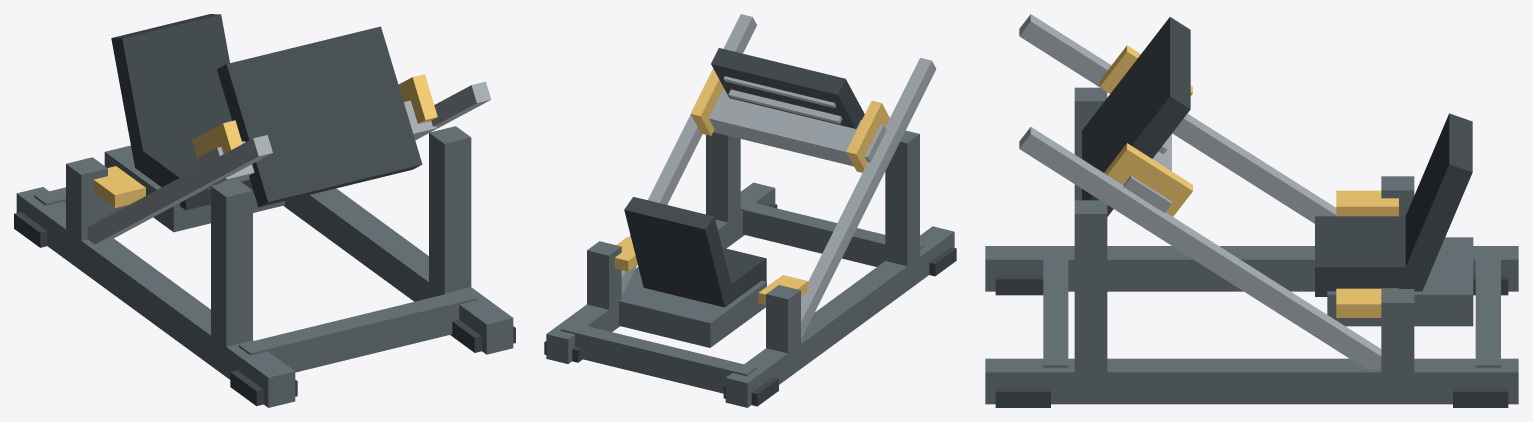
Rendered from leg_press_demo.glb.
3 views of the same model, side by side, from view 1: azimuth 30°, elevation 25°; view 2: azimuth 150°, elevation 25°; view 3: azimuth 270°, elevation 25° (orthographic). The views are drawn at different scales.
Parts seen in each view (by area): view 1: Foot plate, Base rail (×2), Front support (×2), Back cushion, Cross brace (×2), Angled guide (×2), Rear support, Seat cushion, Sled edge (×2), Seat frame, Foot (×3), Handle (+1 smaller); view 2: Base rail (×2), Cross brace (×2), Angled guide (×2), Back cushion, Front support (×2), Sled, Seat frame, Foot plate, Rear support (×2), Sled edge (×2), Plate grip ridge (×2), Seat cushion (+2 smaller); view 3: Base rail (×2), Angled guide (×2), Foot plate, Front support (×2), Seat cushion, Back cushion, Cross brace (×2), Seat frame, Rear support (×2), Sled edge (×2), Foot (×3), Handle (×2) (+1 smaller).
Part boxes in pixels (box(x1,y1,x2,y2)): Foot plate: box(217, 26, 422, 207); Base rail (×2): box(16, 187, 513, 407); Front support (×2): box(211, 126, 471, 362); Back cushion: box(111, 14, 232, 176); Cross brace (×2): box(34, 187, 476, 372); Angled guide (×2): box(87, 81, 491, 244); Rear support: box(66, 157, 107, 262); Seat cushion: box(136, 138, 253, 210); Sled edge (×2): box(192, 74, 437, 166); Seat frame: box(104, 145, 284, 232); Foot (×3): box(14, 212, 515, 406); Handle: box(93, 166, 145, 207); Base rail (×2): box(546, 182, 954, 407); Cross brace (×2): box(560, 199, 924, 393); Angled guide (×2): box(621, 14, 936, 338); Back cushion: box(624, 197, 735, 307); Front support (×2): box(706, 130, 919, 266); Sled: box(709, 88, 886, 166); Seat frame: box(619, 280, 766, 347); Foot plate: box(711, 48, 864, 128); Rear support (×2): box(587, 241, 800, 353); Sled edge (×2): box(690, 68, 889, 172); Plate grip ridge (×2): box(723, 76, 842, 124); Seat cushion: box(722, 247, 766, 306); Base rail (×2): box(985, 246, 1518, 404); Angled guide (×2): box(1019, 14, 1381, 369); Foot plate: box(1082, 17, 1190, 216); Front support (×2): box(1074, 87, 1107, 384); Seat cushion: box(1315, 216, 1420, 296); Back cushion: box(1403, 113, 1472, 291); Cross brace (×2): box(1043, 248, 1500, 367); Seat frame: box(1327, 237, 1473, 326); Rear support (×2): box(1381, 176, 1414, 396); Sled edge (×2): box(1099, 45, 1192, 216); Foot (×3): box(995, 275, 1508, 407); Handle (×2): box(1336, 190, 1398, 317).
Bounding box in the file's own units: 1.26 × 1.25 × 2.12.
